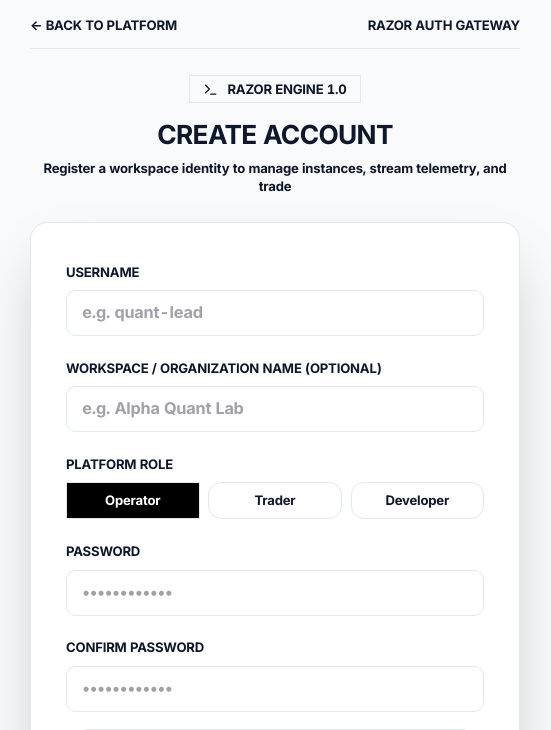
Scenario: Cloud Dashboard RegisterPage › shows error if passwords do not match
Type "new-trader" into the field with placeholder "e.g. quant-lead" at (275, 313), box [66, 290, 484, 336]
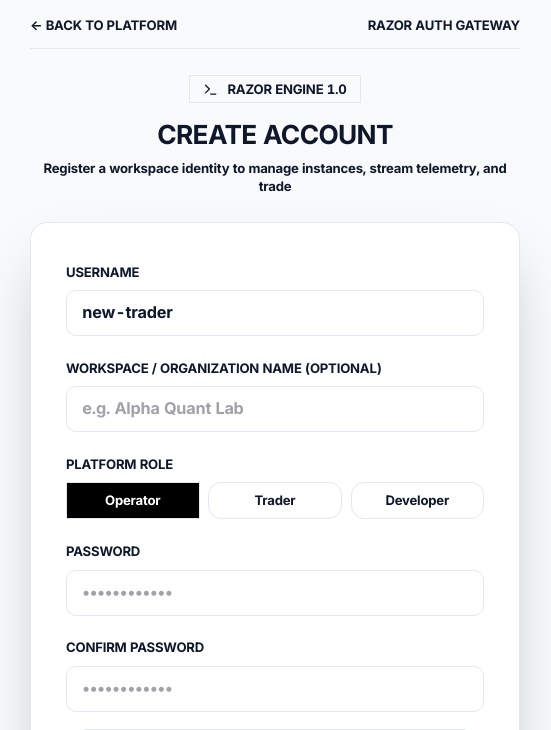
Type "password123" into the 1st password field with placeholder "••••••••••••" at (275, 593), box [66, 570, 484, 616]
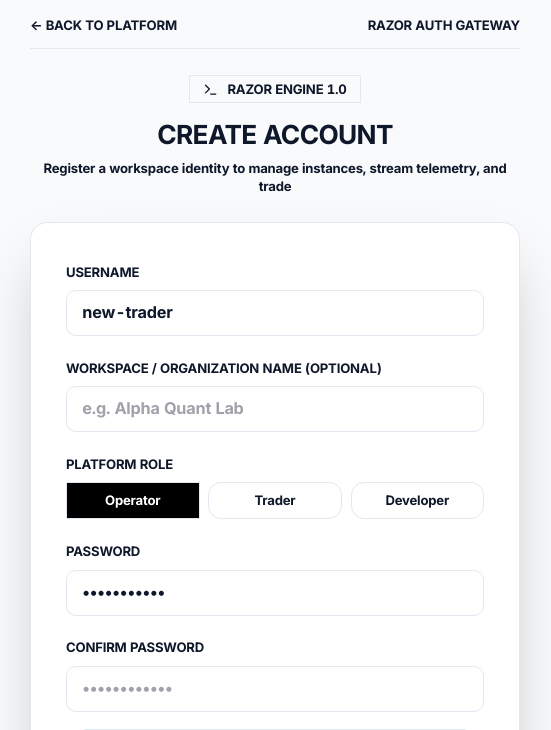
Type "mismatch456" into the password field with placeholder "••••••••••••" at (275, 689), box [66, 666, 484, 712]
(page scrolled)
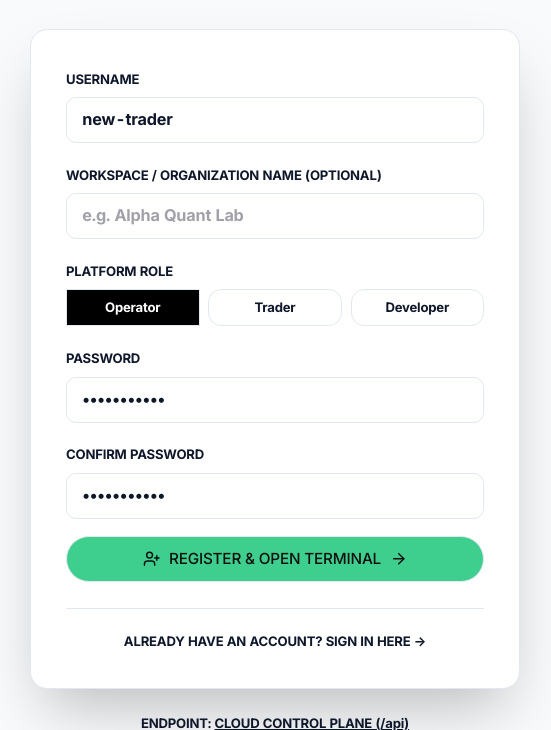
Click the button "Register & Open Terminal" at (275, 559), box [66, 536, 484, 582]
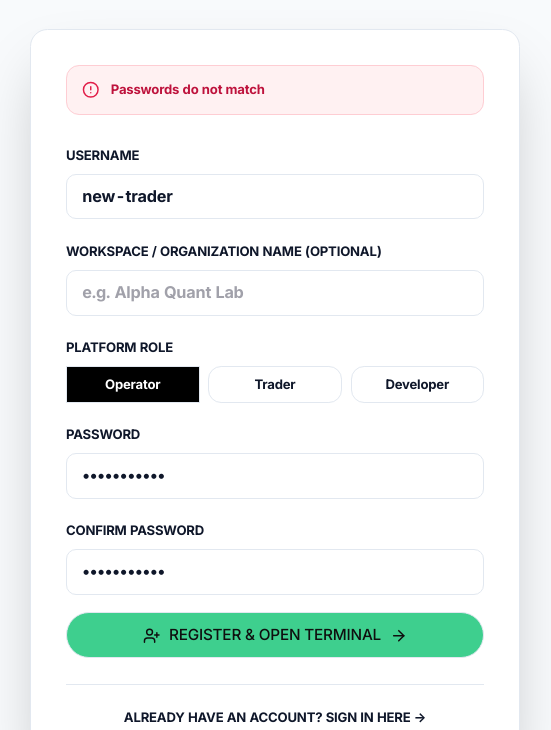
Expected: the text "Passwords do not match" is shown, [111, 81, 265, 98]
